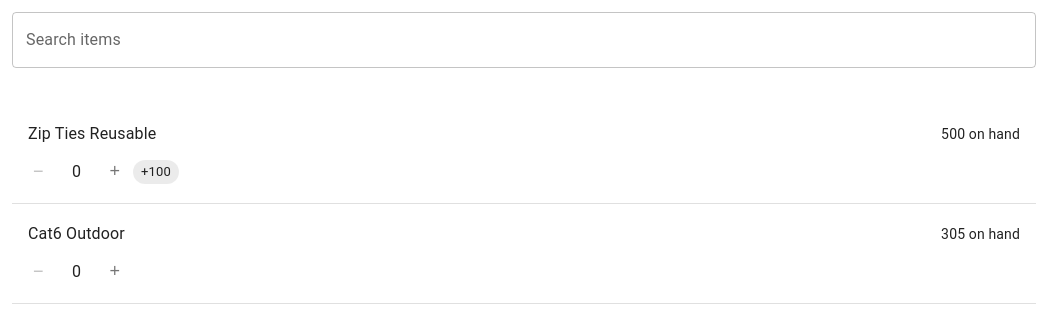
the item list › narrows to what was typed
The image size is (1048, 321).
Expected: the heading "Cat6 Outdoor" is shown, [28, 220, 125, 248]
In the field labelled "Search items": (524, 40) [12, 12, 1036, 68], type "cat6"
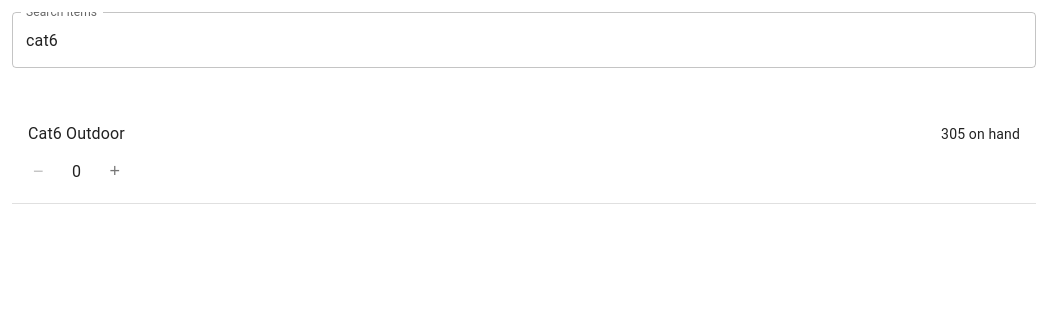
Expected: the heading "Cat6 Outdoor" is shown, [28, 120, 125, 148]
Expected: the heading "Zip Ties Reusable" is gone
